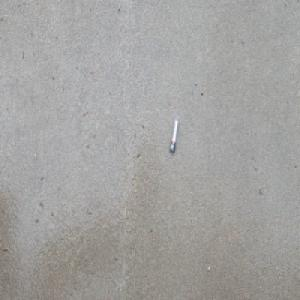Battery: (170, 119, 178, 154)
